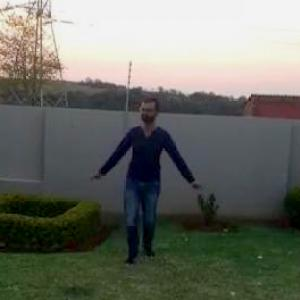land: (84, 91, 205, 267)
